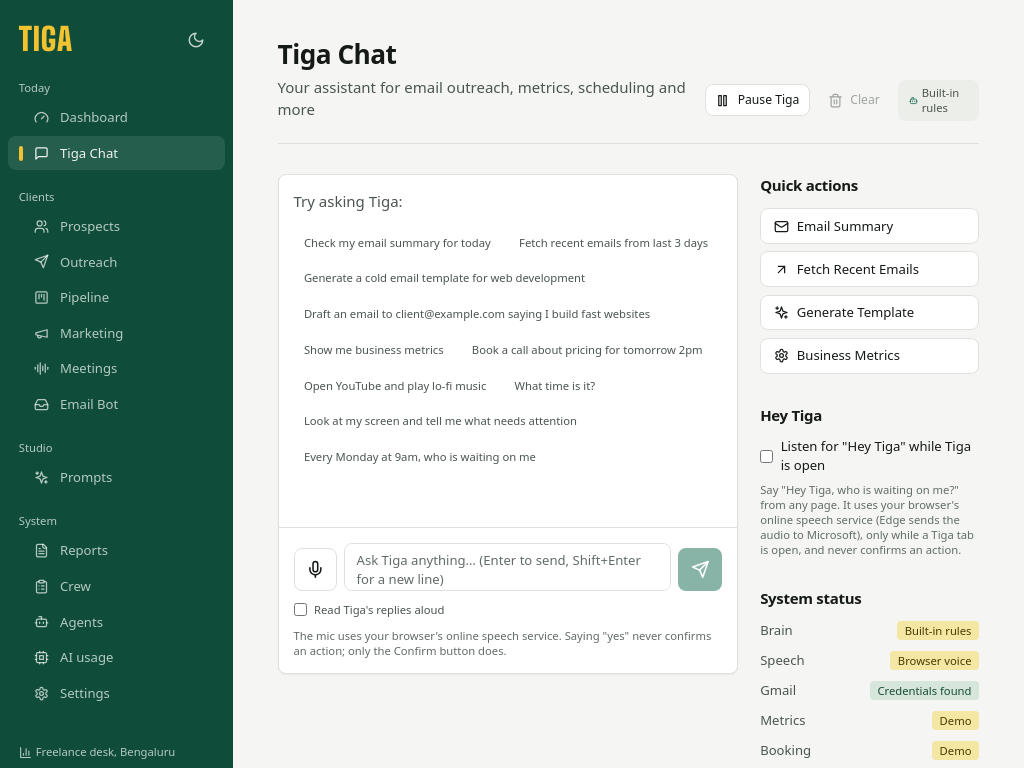
Test: Chat › sends a message with Enter and shows the reply
Step 1. Type "what time is it" into the text box named "message" → (508, 567), box [344, 543, 671, 591]
Then press Enter
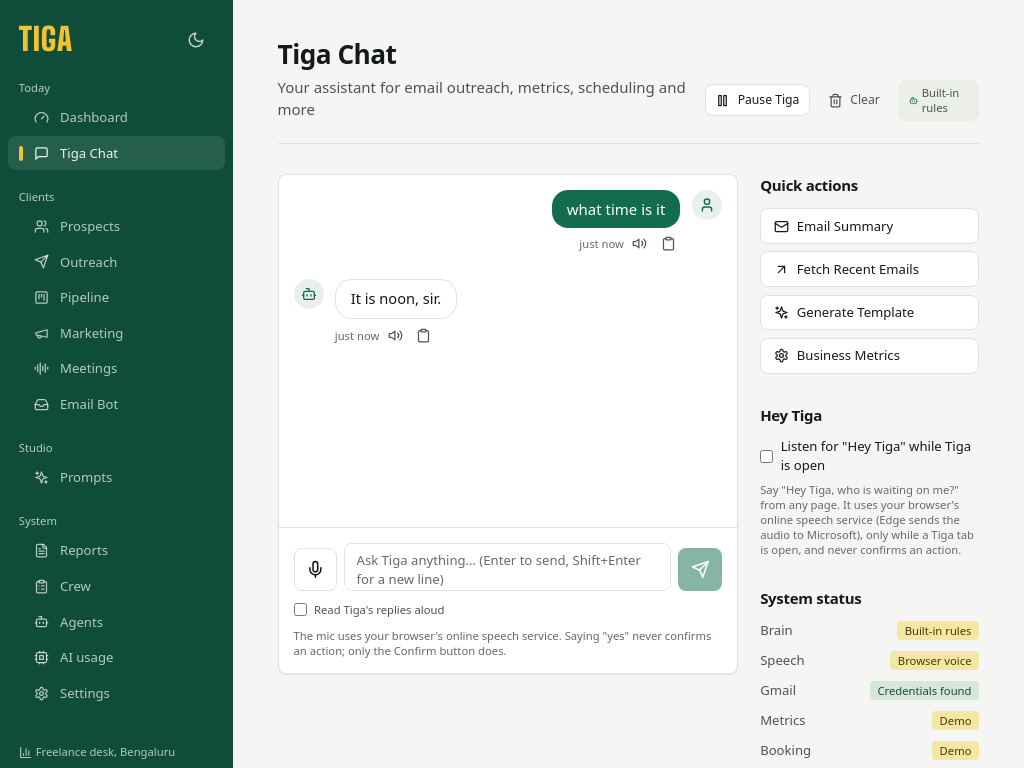
Check: the text "what time is it" is shown, box [567, 198, 665, 220]
Check: the text "It is noon, sir." is shown, box [351, 287, 441, 311]
